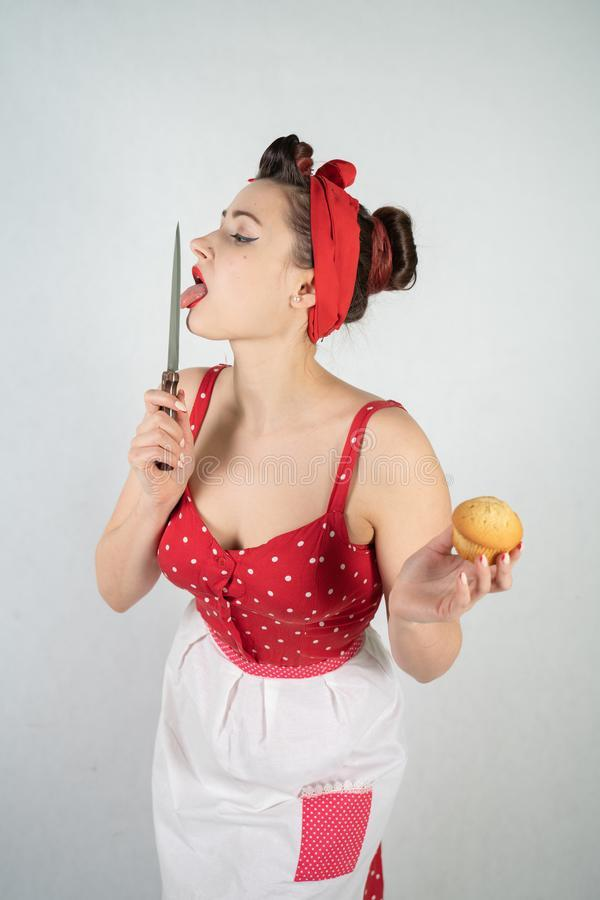criminal: (93, 128, 528, 900)
weapon: (151, 224, 188, 476)
